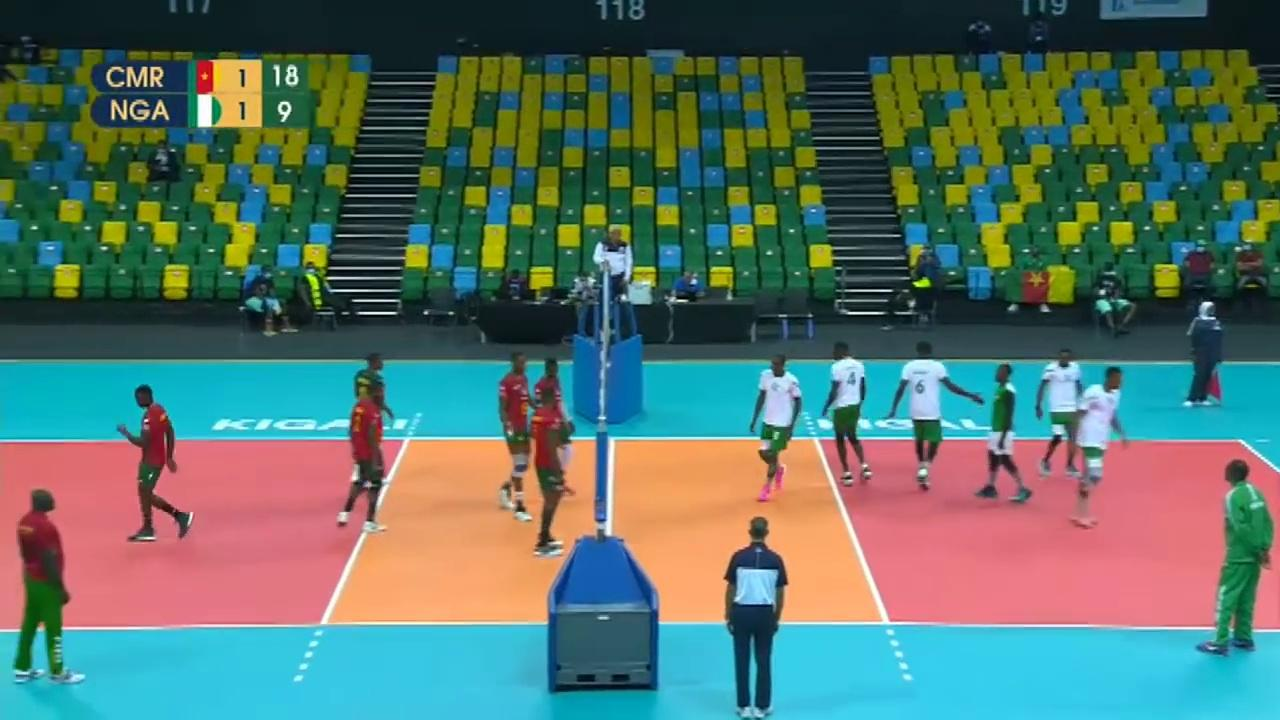player: (886, 346, 985, 489), (120, 388, 190, 538), (337, 381, 399, 539), (1070, 371, 1127, 529), (524, 392, 571, 564), (751, 357, 806, 501), (818, 343, 873, 486), (966, 363, 1024, 498), (344, 355, 396, 490), (492, 350, 534, 515), (1037, 345, 1086, 476), (539, 358, 582, 501)
refree: (721, 522, 791, 715), (593, 222, 635, 333), (1186, 297, 1229, 405)
